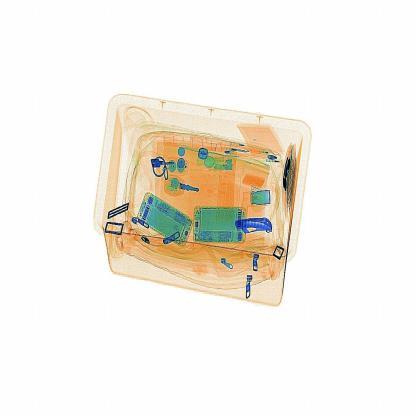knife: (232, 216, 282, 235)
